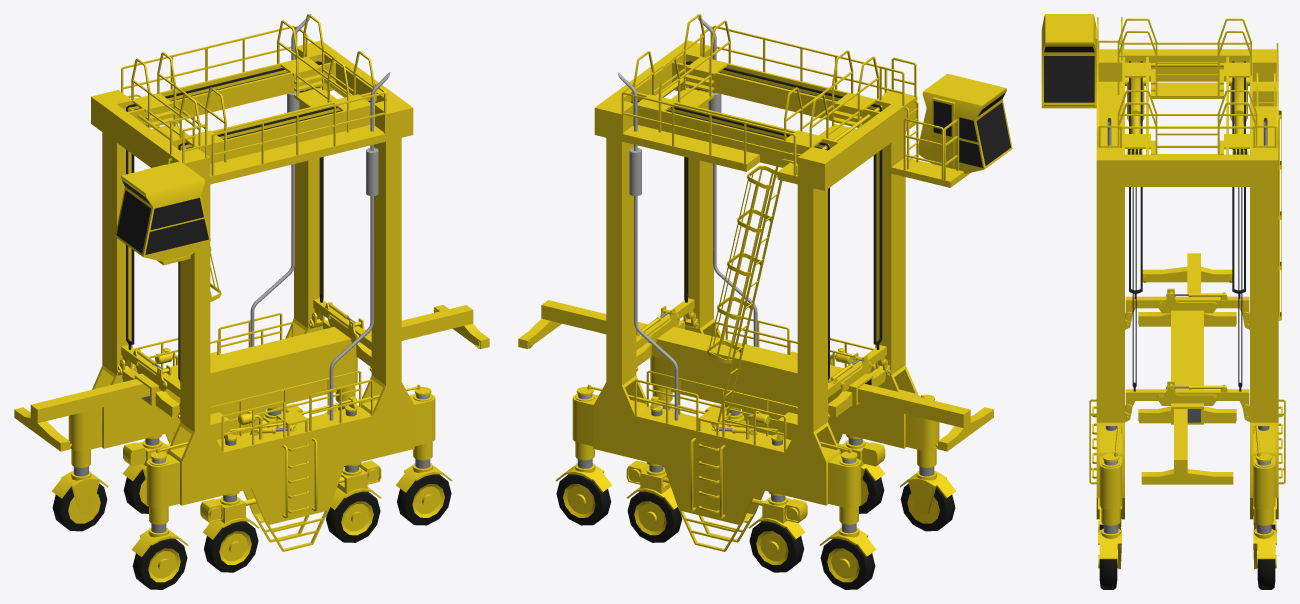
The model's file is straddle_carrier.glb.
3 views of the same model, side by side, from view 1: azimuth 30°, elevation 25°; view 2: azimuth 150°, elevation 25°; view 3: azimuth 270°, elevation 25° (orthographic).
Visible parts, largest first — view 1: Straddle_Crane, Spreader_002, Head1_002, Head2_002; view 2: Straddle_Crane, Spreader_002, Head1_002, Head2_002; view 3: Straddle_Crane, Spreader_002, Head2_002, Head1_002.
Boxes of the visible parts, <box> form: Straddle_Crane: <box>52,14,452,589</box>; Spreader_002: <box>116,298,371,419</box>; Head1_002: <box>14,379,149,451</box>; Head2_002: <box>365,305,489,349</box>; Straddle_Crane: <box>555,14,1012,589</box>; Spreader_002: <box>636,298,891,419</box>; Head1_002: <box>858,384,993,451</box>; Head2_002: <box>518,300,647,348</box>; Straddle_Crane: <box>1041,14,1285,589</box>; Spreader_002: <box>1125,288,1249,424</box>; Head2_002: <box>1141,409,1233,484</box>; Head1_002: <box>1142,253,1232,296</box>.
Size of the model in its own units: 13.5 by 14.09 by 6.74.
1 material, 1 textured.
